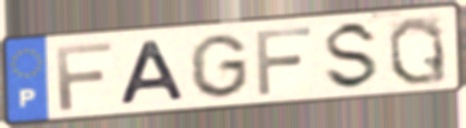A: (117, 38, 189, 107)
F: (252, 24, 315, 98), (52, 40, 115, 113)
G: (186, 31, 251, 101)
Q: (386, 14, 451, 88)
S: (321, 18, 383, 93)
